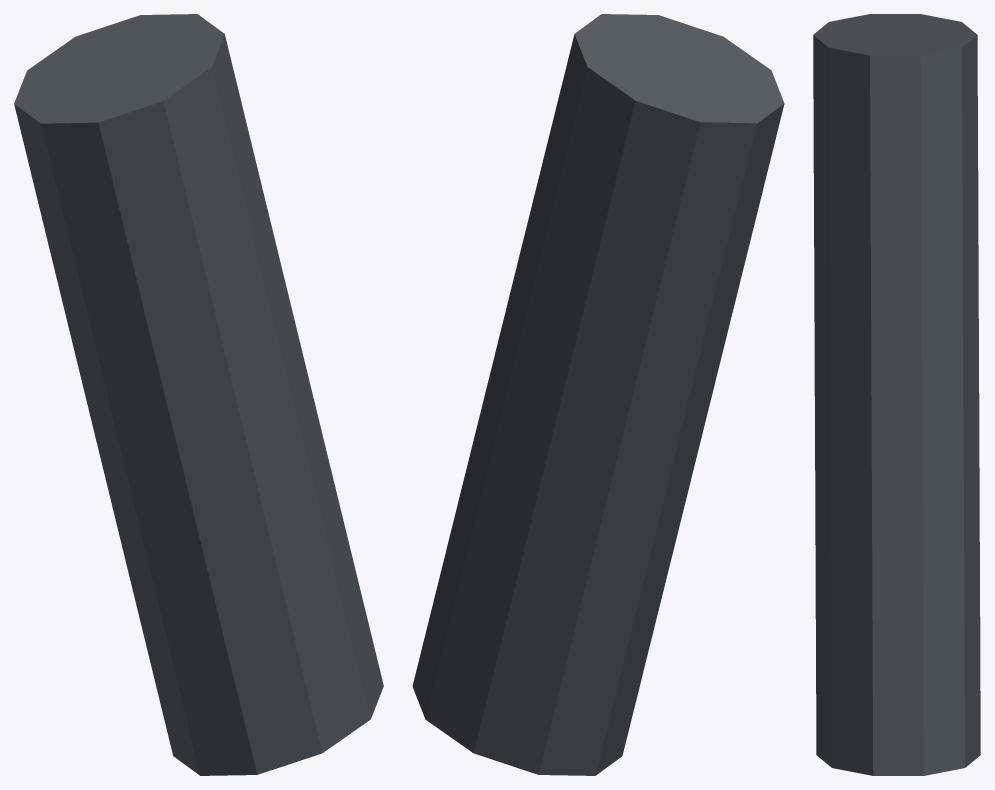
Rendered from Fighter_10_Pipes_1_Red.fbx.
3 views of the same model, side by side, from view 1: azimuth 30°, elevation 25°; view 2: azimuth 150°, elevation 25°; view 3: azimuth 270°, elevation 25° (orthographic). The views are drawn at different scales.
Parts seen in each view (by area): view 1: Fighter_10_Pipes_1_Red; view 2: Fighter_10_Pipes_1_Red; view 3: Fighter_10_Pipes_1_Red.
Boxes of the visible parts, box(x1,y1,x2,y2) form: Fighter_10_Pipes_1_Red: box(14, 14, 383, 775); Fighter_10_Pipes_1_Red: box(412, 14, 784, 775); Fighter_10_Pipes_1_Red: box(813, 14, 980, 775).
Bounding box in the file's own units: 87.43 × 179 × 39.45.
1 material, 1 textured.
